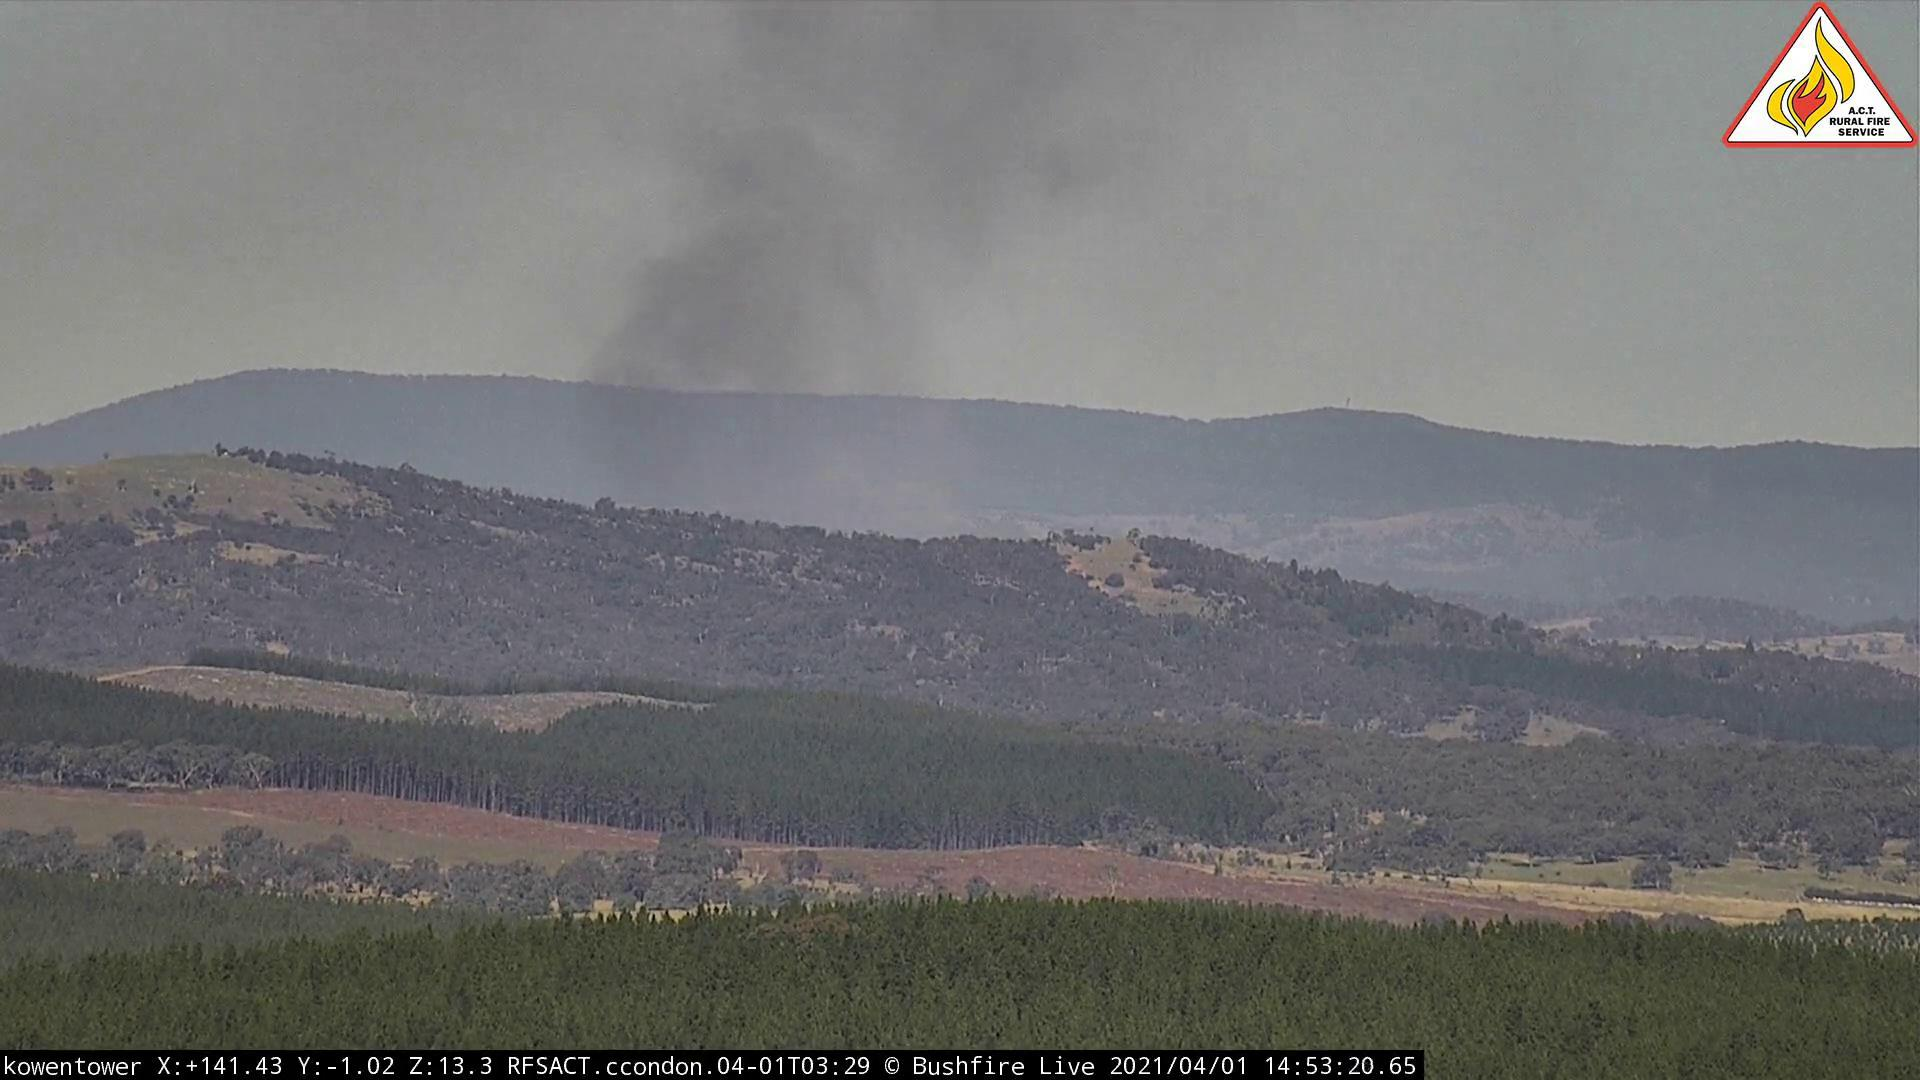Smoke: (524, 3, 1251, 527)
